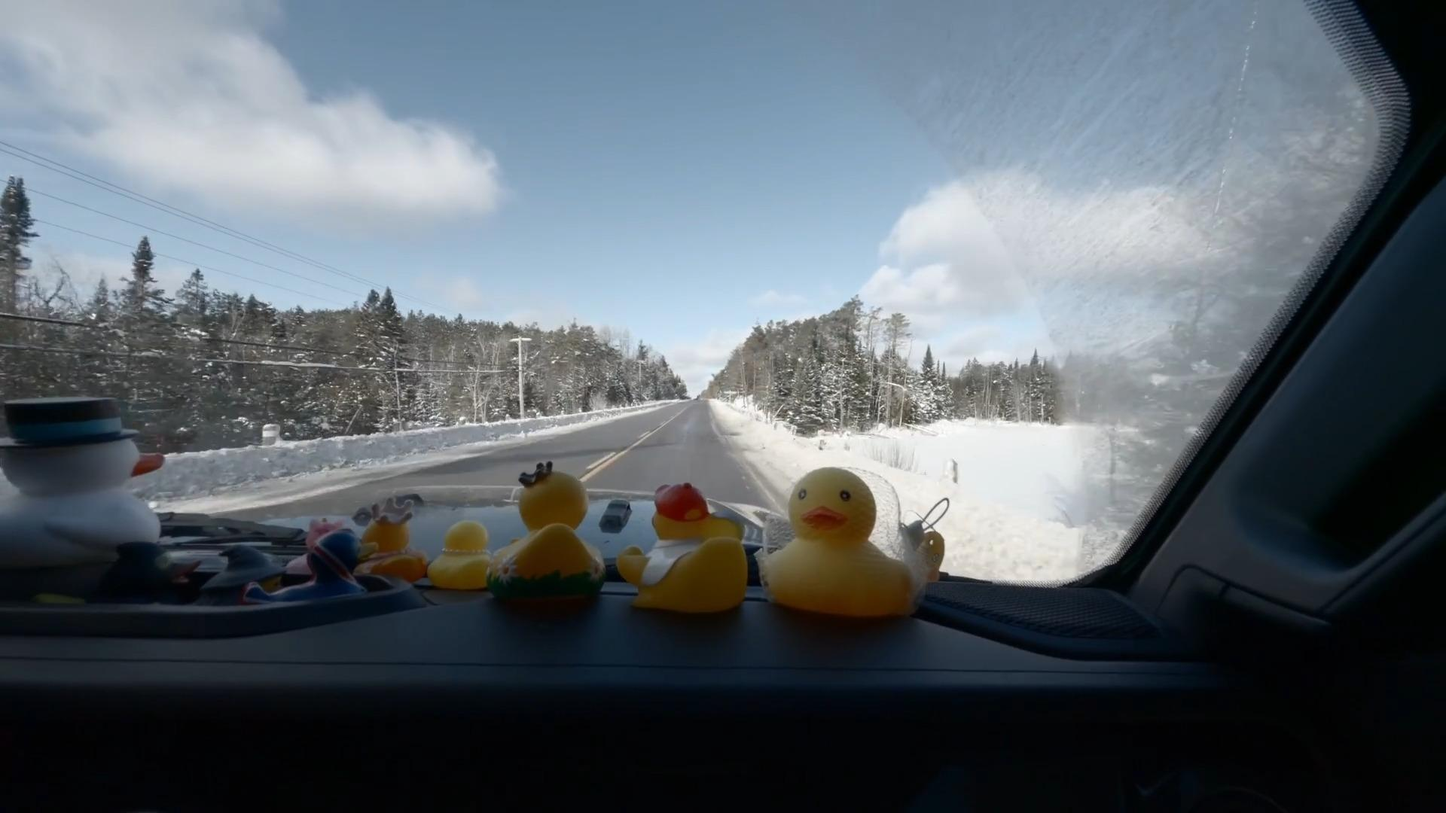Snow: (712, 401, 1117, 581), (154, 400, 678, 511)
dry: (203, 399, 780, 520)
